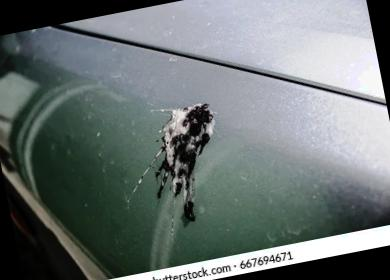Bird Poop: (132, 102, 215, 220), (171, 215, 174, 241)
